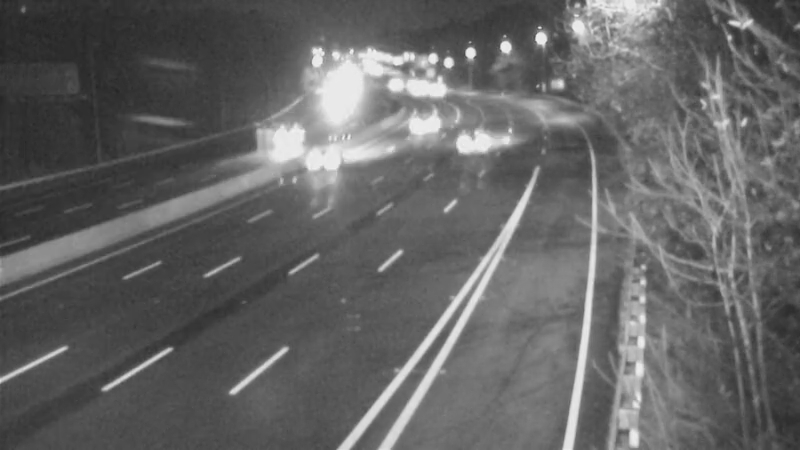vehicle: (288, 118, 368, 198), (397, 92, 447, 142), (437, 106, 487, 156), (263, 112, 313, 162)
